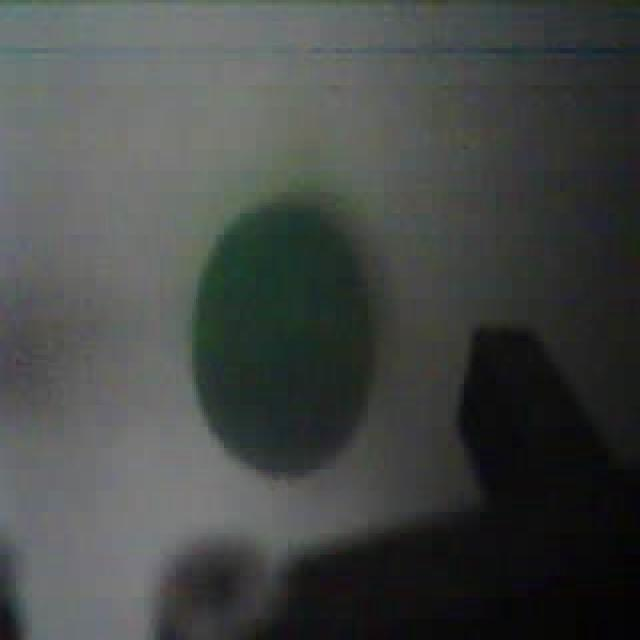green_ball: (188, 187, 380, 480)
